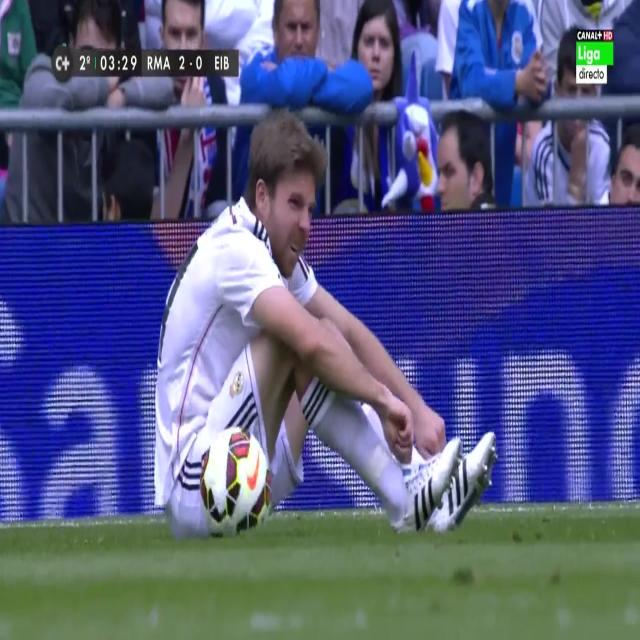Ball: (198, 421, 274, 536)
Player: (152, 108, 500, 536)
